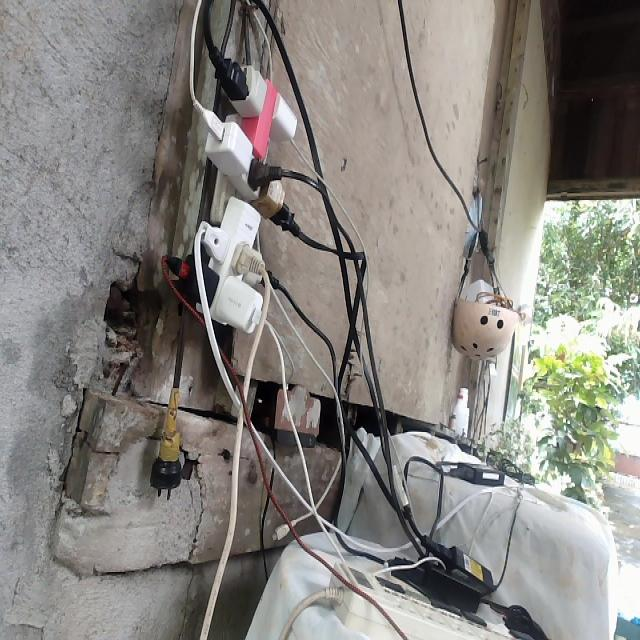-: (175, 60, 300, 335)
